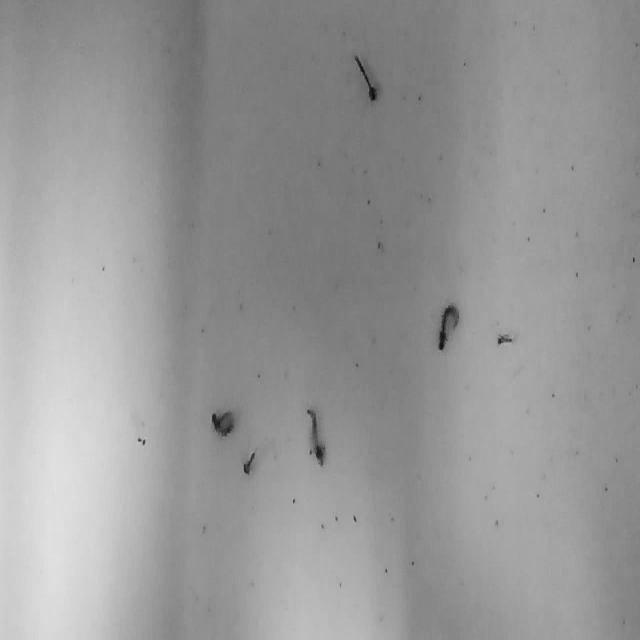larvas: (306, 408, 326, 465), (353, 54, 377, 100), (438, 302, 458, 348), (210, 412, 233, 436), (244, 451, 254, 474), (497, 332, 513, 342)
